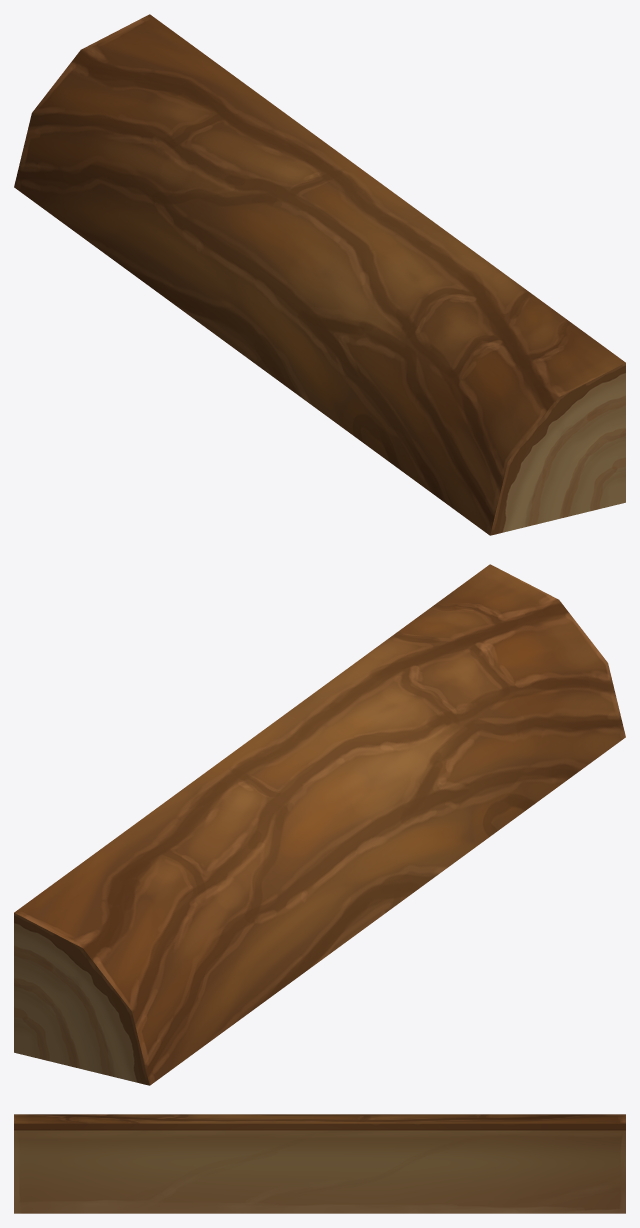
The model's file is Log_3.FBX.
3 views of the same model, one above another, from view 1: azimuth 30°, elevation 25°; view 2: azimuth 150°, elevation 25°; view 3: azimuth 270°, elevation 25° (orthographic). The views are drawn at different scales.
Visible parts, largest first — view 1: Log_3; view 2: Log_3; view 3: Log_3.
Part boxes in pixels (x1=…): Log_3: x1=14, y1=14, x2=625, y2=535; Log_3: x1=14, y1=564, x2=625, y2=1085; Log_3: x1=14, y1=1114, x2=625, y2=1213.
Size of the model in its own units: 0.4571 by 0.45 by 2.78.
